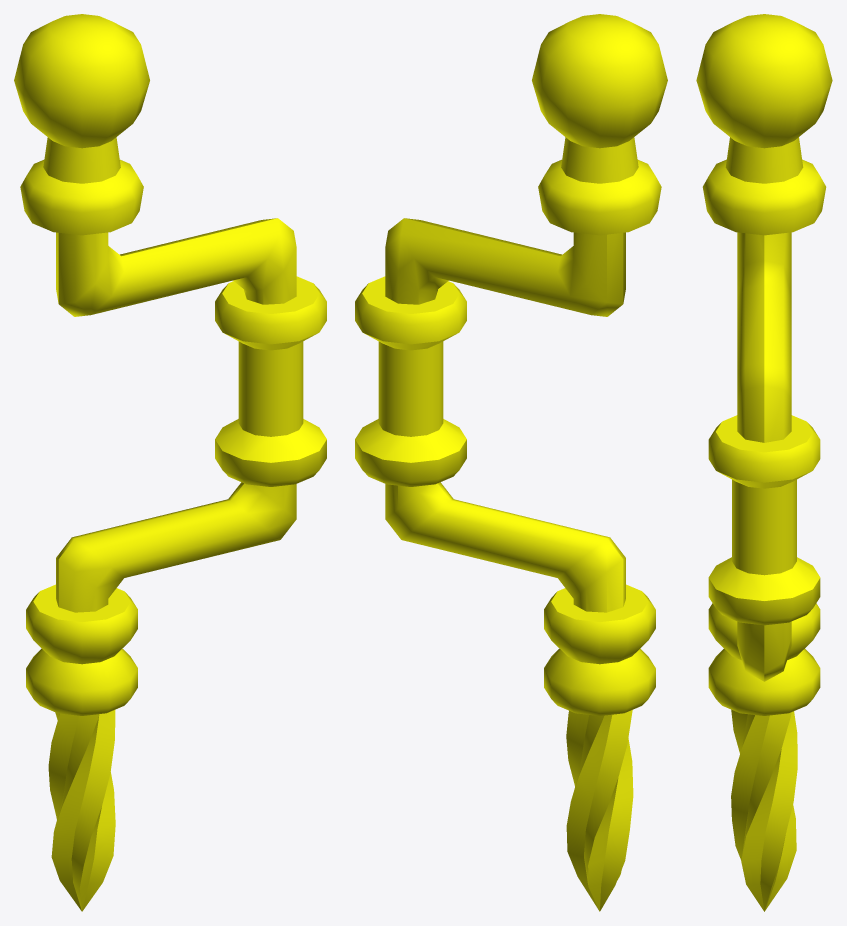
File: kaykit-handdrill.glb
3 views of the same model, side by side, from view 1: azimuth 30°, elevation 25°; view 2: azimuth 150°, elevation 25°; view 3: azimuth 270°, elevation 25° (orthographic).
Parts seen in each view (by area): view 1: handdrill; view 2: handdrill; view 3: handdrill.
Boxes of the visible parts, x1=… form: handdrill: x1=14, y1=14, x2=326, y2=911; handdrill: x1=355, y1=14, x2=667, y2=911; handdrill: x1=696, y1=14, x2=832, y2=911.
Bounding box in the file's own units: 0.437 × 1.25 × 0.1739.
